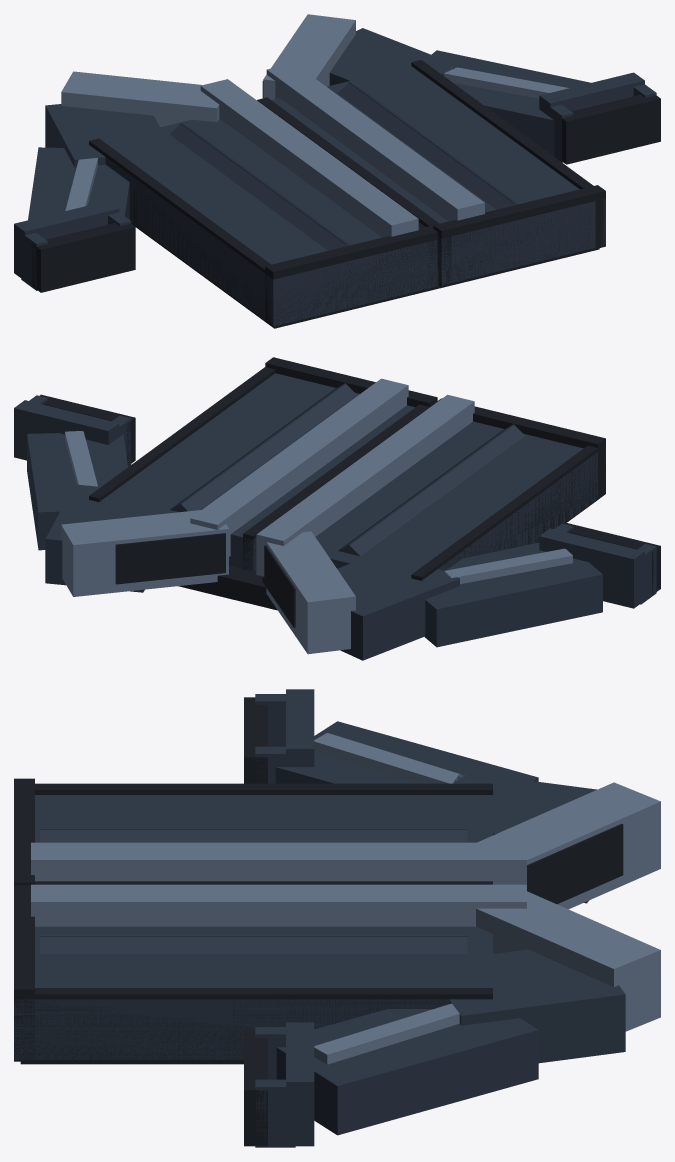
The model's file is CMU3DRMCJacketCorporateBlueWorldCloud.glb.
3 renders of one model, top to bottom at view 1: azimuth 30°, elevation 25°; view 2: azimuth 150°, elevation 25°; view 3: azimuth 270°, elevation 25°, orthographic. The views are drawn at different scales.
Visible parts, largest first — view 1: left tailored front continuous woven panel, right tailored front continuous woven panel, right long turned facing, left long turned facing, left turned collar leaf, left tailored front lower turned hem, left cuff lower turned lip, left broad connected shoulder, right cuff lower turned lip, left tailored front left bound seam, right continuous angled sleeve, right tailored front lower turned hem (+16 smaller); view 2: left tailored front continuous woven panel, right tailored front continuous woven panel, left continuous angled sleeve, left long turned facing, right long turned facing, right turned collar leaf, left broad connected shoulder, left turned collar leaf, left tailored front left bound seam, right continuous angled sleeve, right collar inner crease, left cuff sewn upper lip (+18 smaller); view 3: right tailored front continuous woven panel, right long turned facing, left long turned facing, right continuous angled sleeve, left tailored front continuous woven panel, right broad connected shoulder, right tailored front right bound seam, right turned collar leaf, left turned collar leaf, right tailored front right restrained cloth crease, left tailored front right restrained cloth crease, left continuous angled sleeve (+17 smaller).
Boxes of the visible parts, x1,y1,x2,y2 form: left tailored front continuous woven panel: [105, 118, 437, 326]; right tailored front continuous woven panel: [271, 66, 605, 285]; right long turned facing: [266, 63, 484, 221]; left long turned facing: [200, 79, 418, 237]; left turned collar leaf: [61, 71, 219, 127]; left tailored front lower turned hem: [265, 226, 437, 326]; left cuff lower turned lip: [32, 223, 135, 292]; left broad connected shoulder: [45, 104, 172, 167]; right cuff lower turned lip: [562, 94, 660, 164]; left tailored front left bound seam: [89, 138, 283, 327]; right continuous angled sleeve: [431, 50, 590, 156]; right tailored front lower turned hem: [433, 185, 605, 286]; left tailored front continuous woven panel: [315, 421, 605, 578]; right tailored front continuous woven panel: [115, 373, 414, 571]; left continuous angled sleeve: [424, 542, 602, 647]; left long turned facing: [256, 394, 474, 576]; right long turned facing: [190, 378, 408, 556]; right turned collar leaf: [61, 510, 228, 596]; left broad connected shoulder: [337, 550, 459, 660]; left turned collar leaf: [266, 531, 355, 654]; left tailored front left bound seam: [411, 442, 605, 580]; right continuous angled sleeve: [27, 433, 127, 550]; right collar inner crease: [115, 533, 225, 584]; left cuff sewn upper lip: [539, 528, 644, 608]; right tailored front continuous woven panel: [14, 926, 492, 1059]; right long turned facing: [31, 884, 526, 926]; left long turned facing: [31, 842, 526, 884]; right continuous angled sleeve: [276, 1009, 538, 1135]; left tailored front continuous woven panel: [35, 795, 492, 842]; right broad connected shoulder: [427, 949, 625, 1063]; right tailored front right bound seam: [14, 988, 492, 1061]; right turned collar leaf: [476, 891, 660, 1031]; left turned collar leaf: [477, 782, 660, 909]; right tailored front right restrained cloth crease: [39, 935, 467, 954]; left tailored front right restrained cloth crease: [39, 828, 467, 842]; left continuous angled sleeve: [275, 721, 538, 783].
Size of the model in its own units: 0.5125 by 0.056 by 0.3567.
